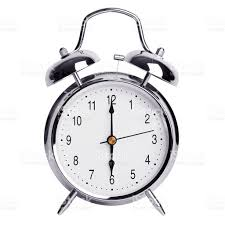alarm_clock: (38, 5, 192, 213)
